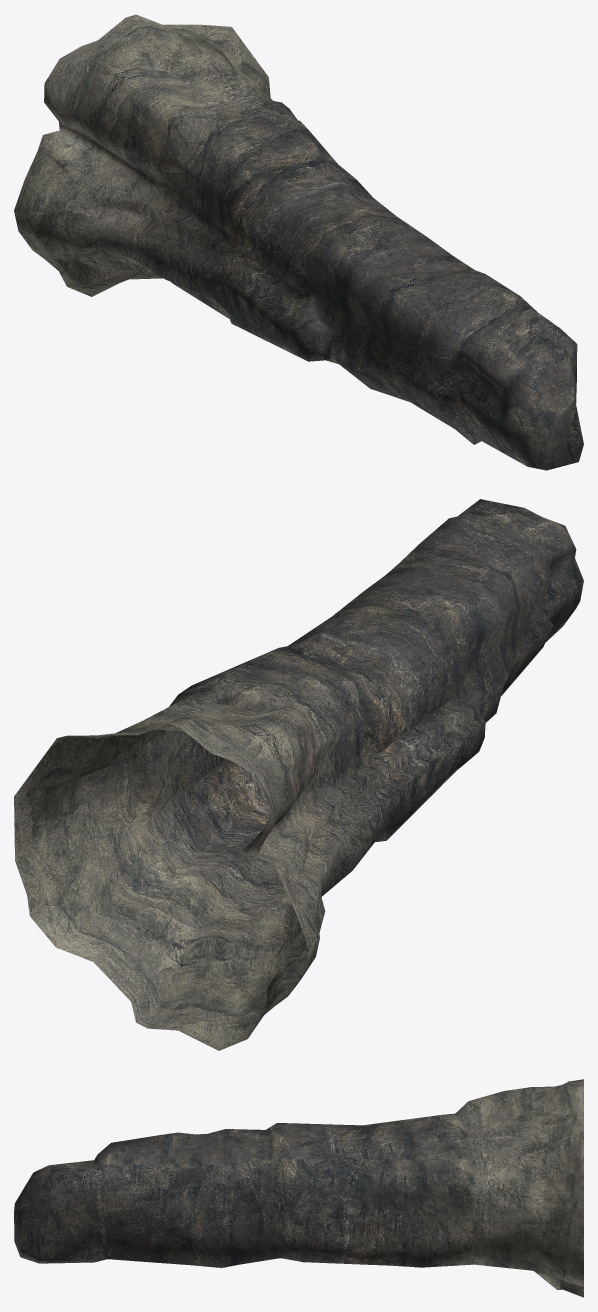
File: tdr_c_rock_b.obj
3 views of the same model, one above another, from view 1: azimuth 30°, elevation 25°; view 2: azimuth 150°, elevation 25°; view 3: azimuth 270°, elevation 25° (orthographic). The views are drawn at different scales.
Parts seen in each view (by area): view 1: Body.rock_desert_b.smd.mesh_0; view 2: Body.rock_desert_b.smd.mesh_0; view 3: Body.rock_desert_b.smd.mesh_0.
Boxes of the visible parts, bbox=[...] form: Body.rock_desert_b.smd.mesh_0: bbox=[14, 14, 583, 470]; Body.rock_desert_b.smd.mesh_0: bbox=[14, 499, 583, 1050]; Body.rock_desert_b.smd.mesh_0: bbox=[14, 1079, 583, 1297].
Size of the model in its own units: 200 by 204 by 514.
1 material, 1 textured.
